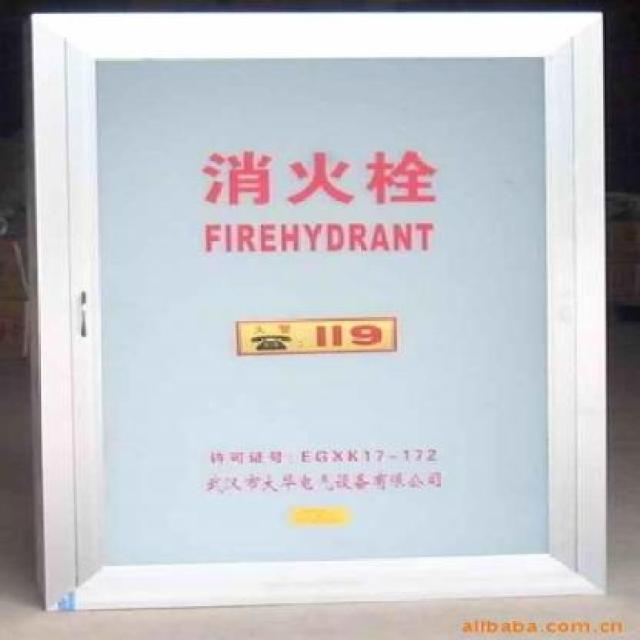firehydrant: (23, 9, 615, 618)
